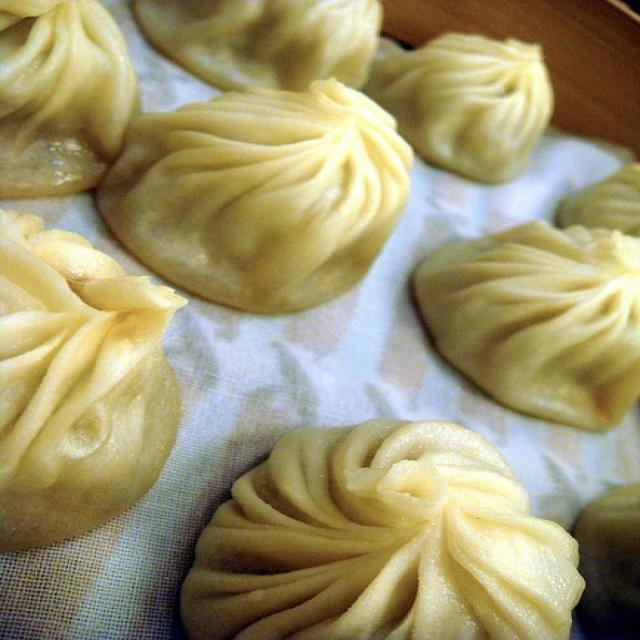带馅早点: (6, 4, 630, 626)
